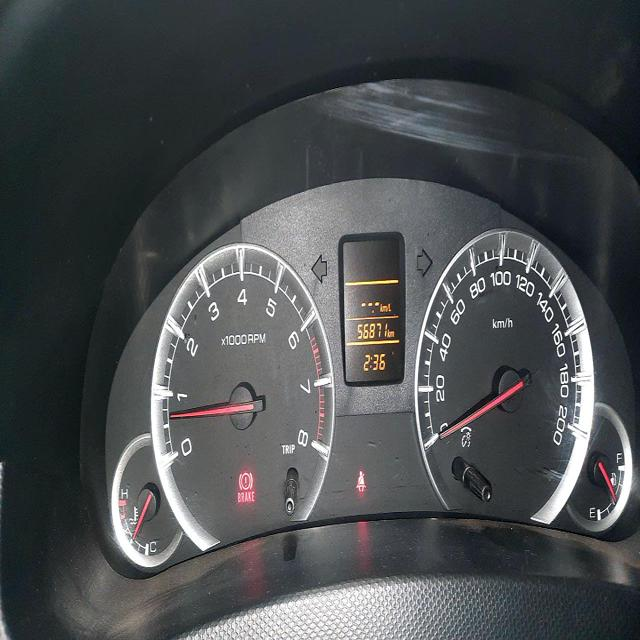odometer: (355, 318, 389, 342)
